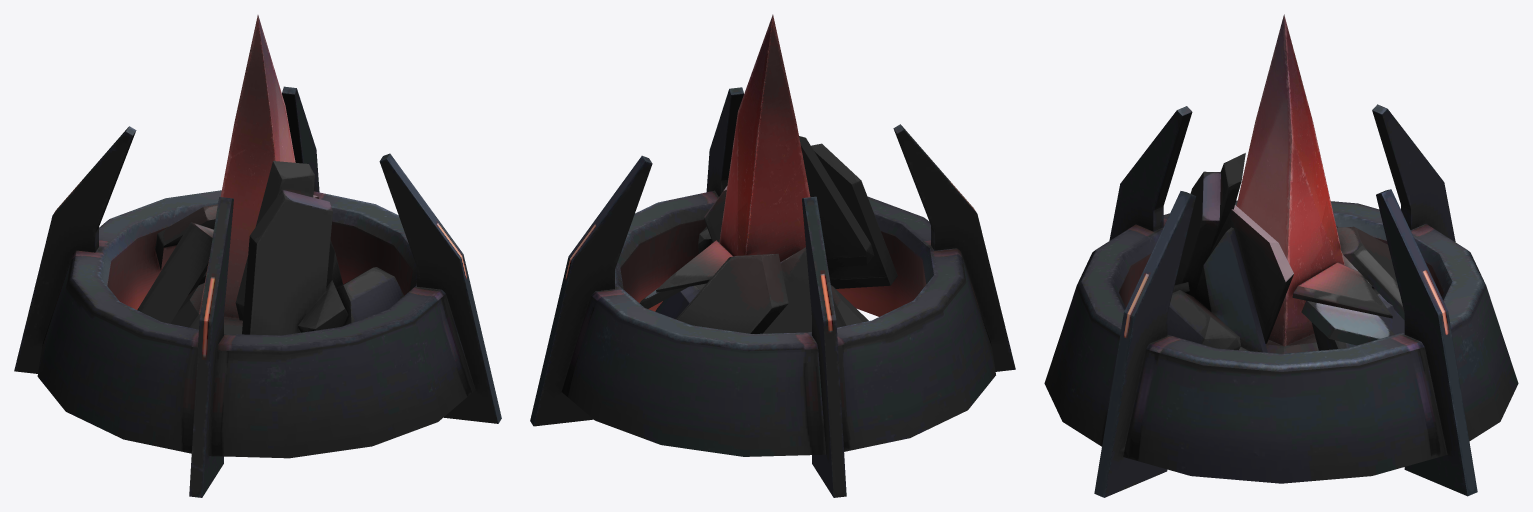
The model's file is S_curse_device.fbx.
3 renders of one model, left to right at view 1: azimuth 30°, elevation 25°; view 2: azimuth 150°, elevation 25°; view 3: azimuth 270°, elevation 25°, orthographic. The views are drawn at different scales.
Visible parts, largest first — view 1: S_curse_device; view 2: S_curse_device; view 3: S_curse_device.
Boxes of the visible parts, left/top/right/bottom form: S_curse_device: left=14, top=15, right=501, bottom=497; S_curse_device: left=530, top=14, right=1015, bottom=497; S_curse_device: left=1044, top=14, right=1518, bottom=497.
Bounding box in the file's own units: 0.8814 × 0.8251 × 0.8814.
1 material, 1 textured.
